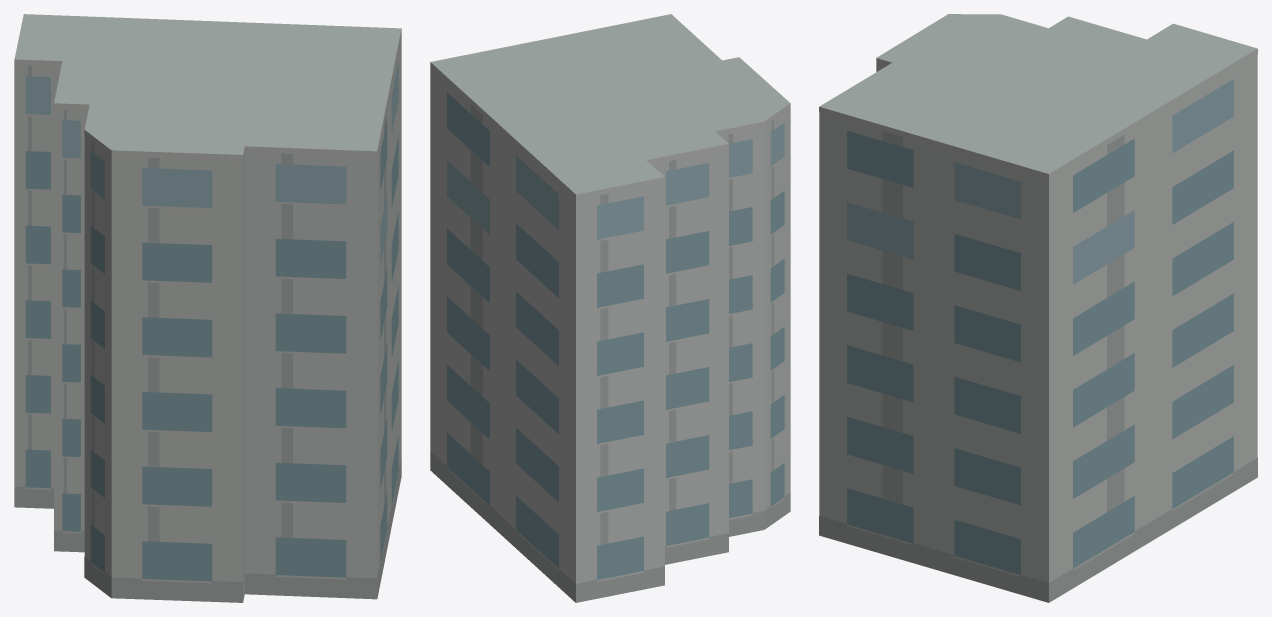
File: survey-upis-32674774.glb
The picture shows the model from 3 angles, left to right: view 1: azimuth 30°, elevation 25°; view 2: azimuth 150°, elevation 25°; view 3: azimuth 270°, elevation 25°; orthographic projection. The views are drawn at different scales.
Visible parts, largest first — view 1: survey-upis-32674774.tmp; view 2: survey-upis-32674774.tmp; view 3: survey-upis-32674774.tmp.
Part boxes in pixels (left/top/right/bottom): survey-upis-32674774.tmp: left=14, top=14, right=401, bottom=602; survey-upis-32674774.tmp: left=430, top=14, right=790, bottom=602; survey-upis-32674774.tmp: left=819, top=14, right=1257, bottom=602.
Size of the model in its own units: 14.65 by 18.3 by 16.97.
